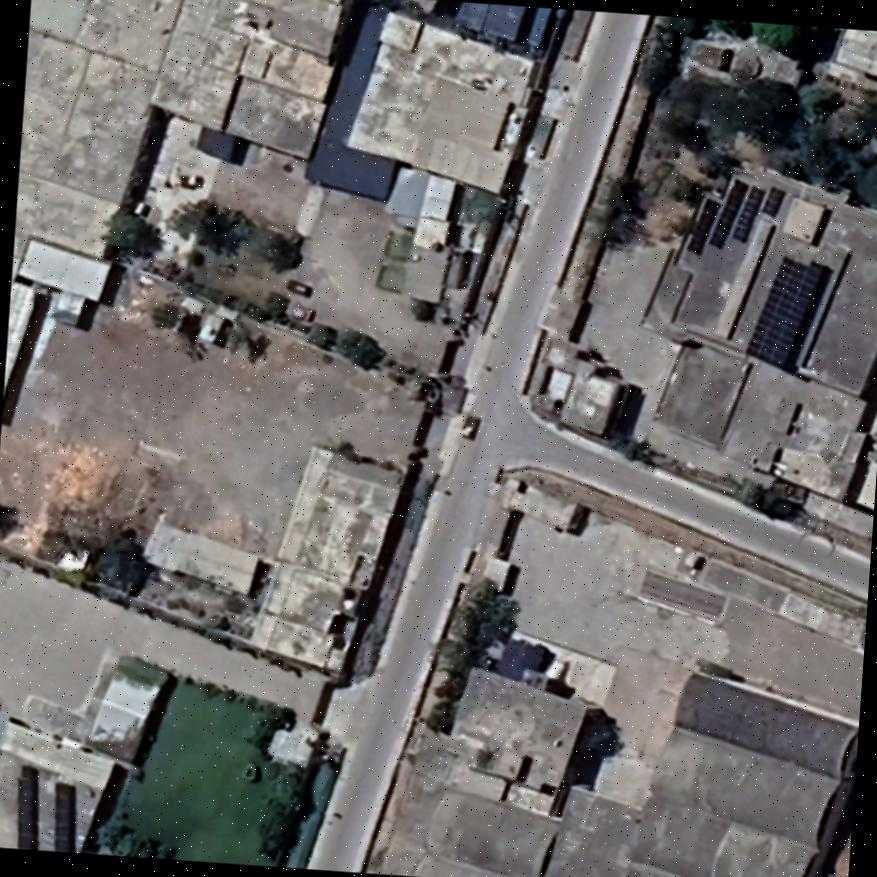Solarpanel: (740, 253, 824, 373), (707, 175, 750, 250), (682, 193, 724, 258), (730, 181, 768, 244), (15, 763, 40, 850), (52, 778, 78, 851), (760, 182, 789, 218)
